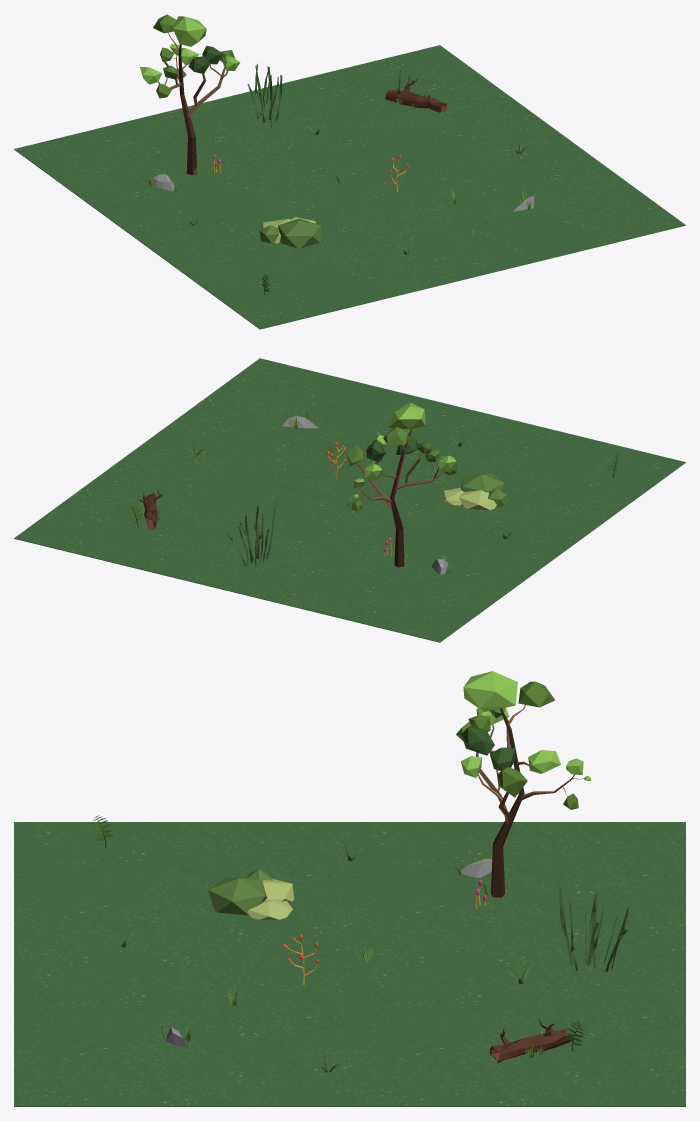
3 renders of one model, top to bottom at view 1: azimuth 30°, elevation 25°; view 2: azimuth 150°, elevation 25°; view 3: azimuth 270°, elevation 25°, orthographic. The views are drawn at different scales.
Visible parts, largest first — view 1: EP_03; view 2: EP_03; view 3: EP_03.
Boxes of the visible parts, box(x1,y1,x2,y2) form: EP_03: box(14, 14, 685, 329); EP_03: box(14, 358, 685, 642); EP_03: box(14, 671, 685, 1106).
Size of what is drawn, in the model's own units: 16 by 5.95 by 16.
1 material, 1 textured.
